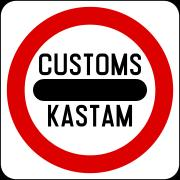Stop: (10, 10, 169, 167)
